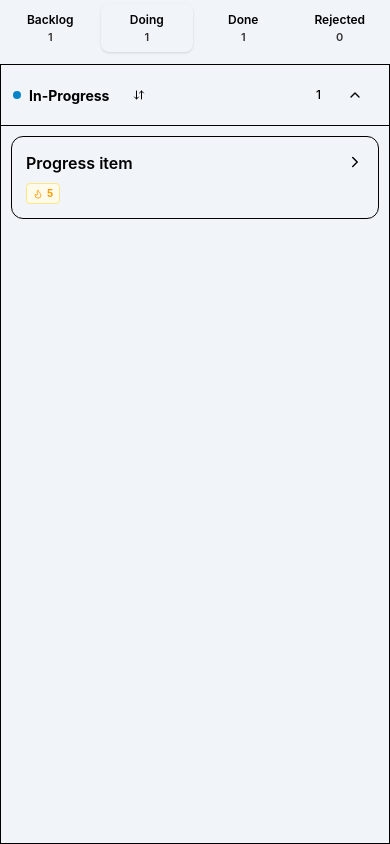
Test case: MobileLaneBoard › shows one lane at a time, defaults to active work, and exposes task counts
The width and height of the screenshot is (390, 844).
Expected: the element named "progress item, in-progress" is shown, [11, 136, 379, 219]
Click the tab with aria-label "Backlog, 1 task": (50, 28) [4, 4, 96, 52]
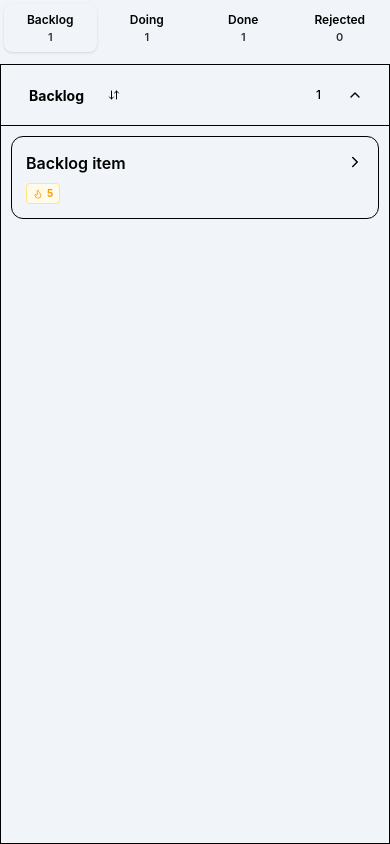
Result: the element named "backlog item, backlog" is shown at [11, 136, 379, 219]
